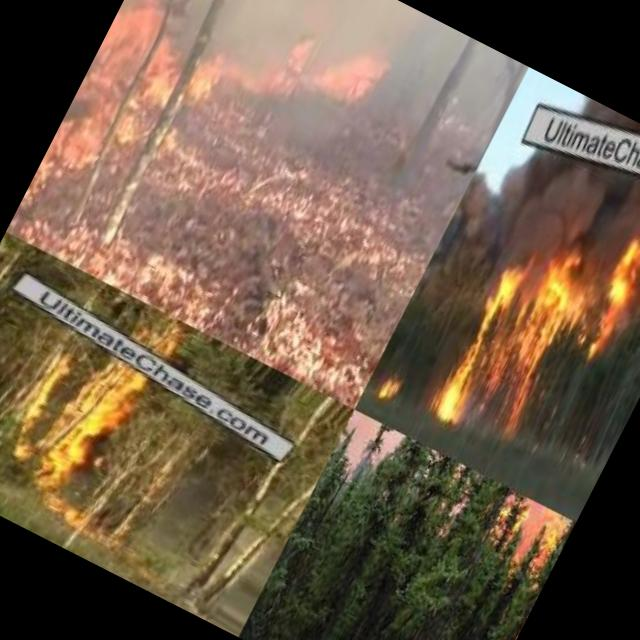fire: (428, 199, 640, 472), (0, 328, 153, 519), (268, 9, 394, 134), (78, 0, 200, 125), (484, 490, 575, 578), (374, 364, 411, 414)
smoke: (612, 195, 640, 360)
